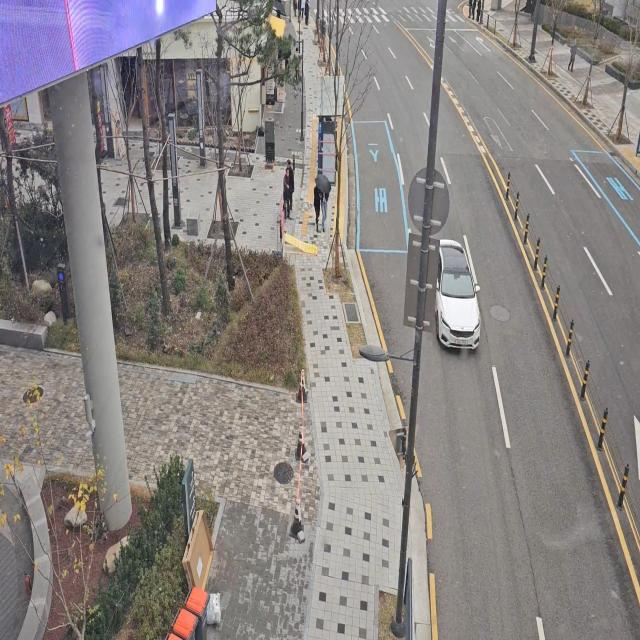Car: (431, 226, 490, 356)
